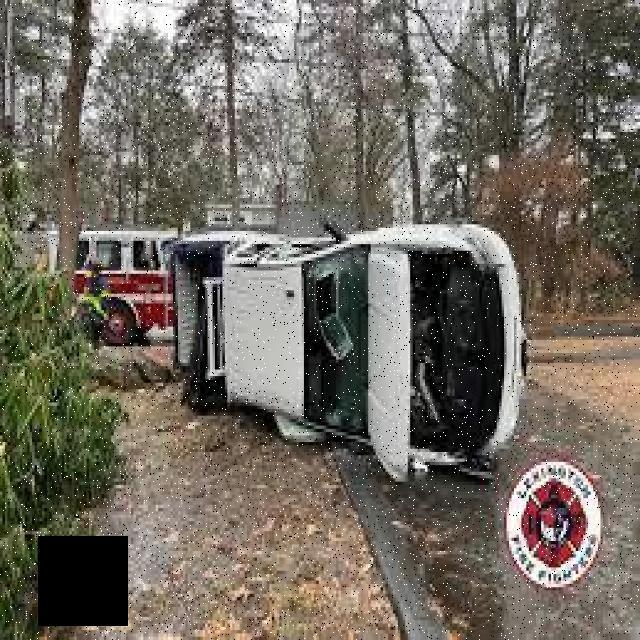severe: (158, 219, 529, 486)
